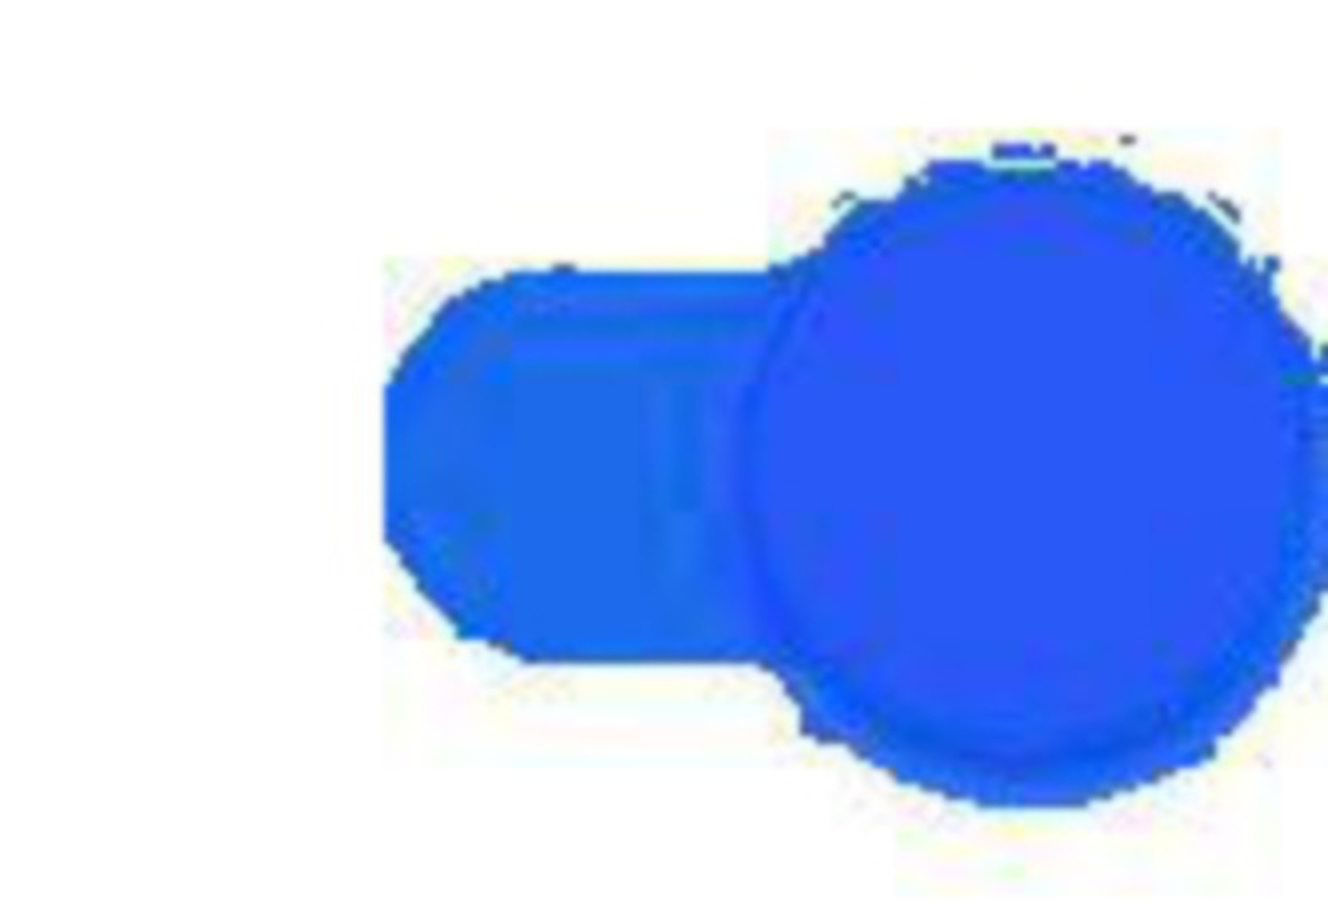Switch: (1, 1, 1327, 919)
